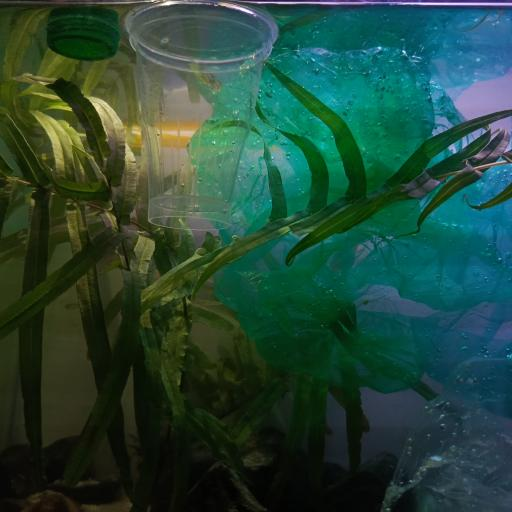bottle_cap: (46, 18, 120, 62)
plastic_bag: (186, 48, 512, 420), (379, 354, 512, 511)
plastic_cup: (125, 0, 281, 235)
plastic_straw: (132, 128, 189, 148)
